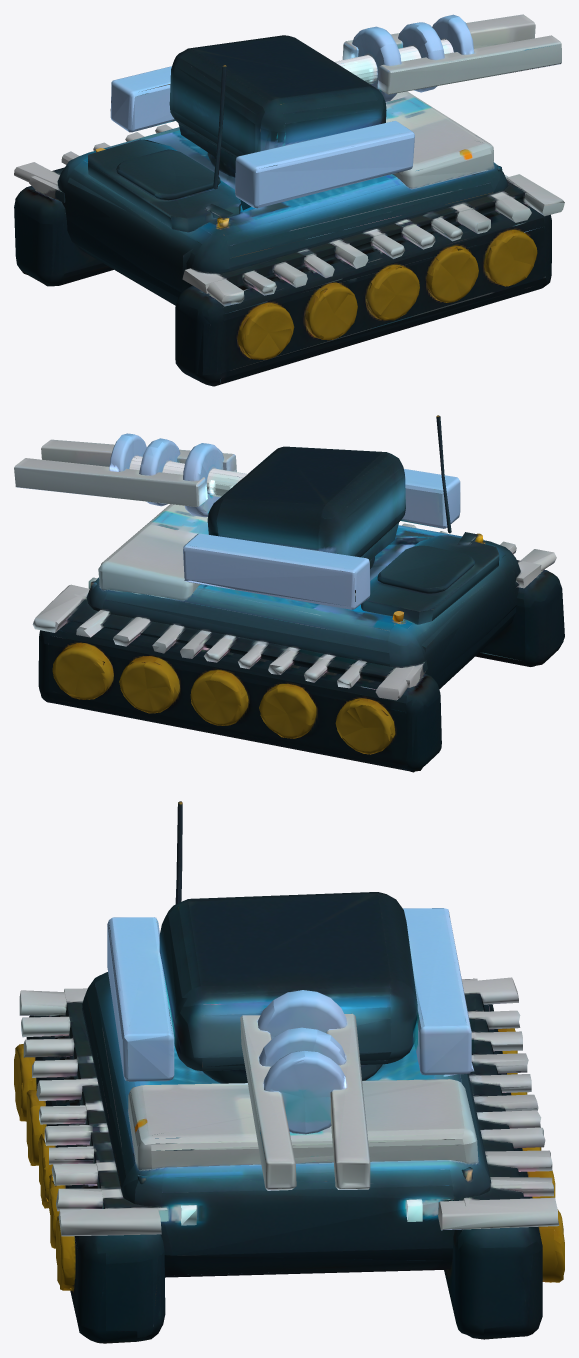
File: rail-tank.glb
3 renders of one model, top to bottom at view 1: azimuth 30°, elevation 25°; view 2: azimuth 150°, elevation 25°; view 3: azimuth 270°, elevation 25°, orthographic. The views are drawn at different scales.
Bounding box in the file's own units: 1 × 0.5547 × 0.7715.
Materials: 1 (1 with a texture image).
